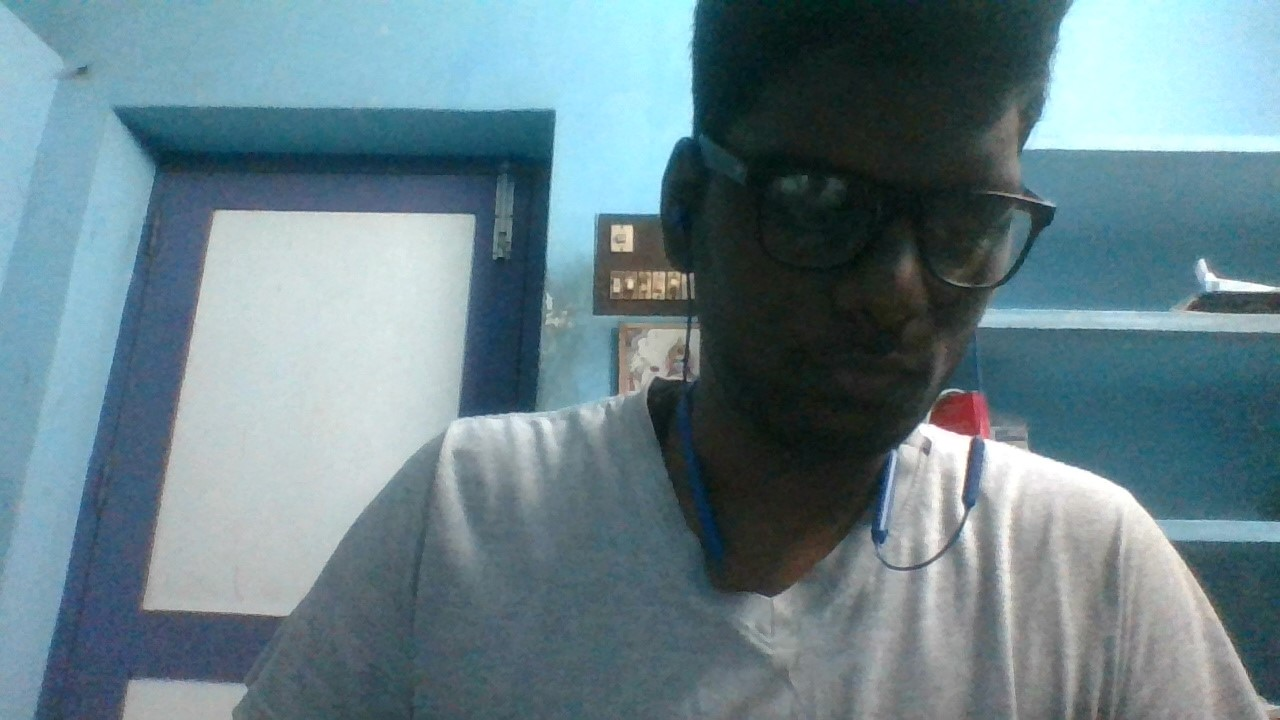person: (272, 3, 1239, 720)
